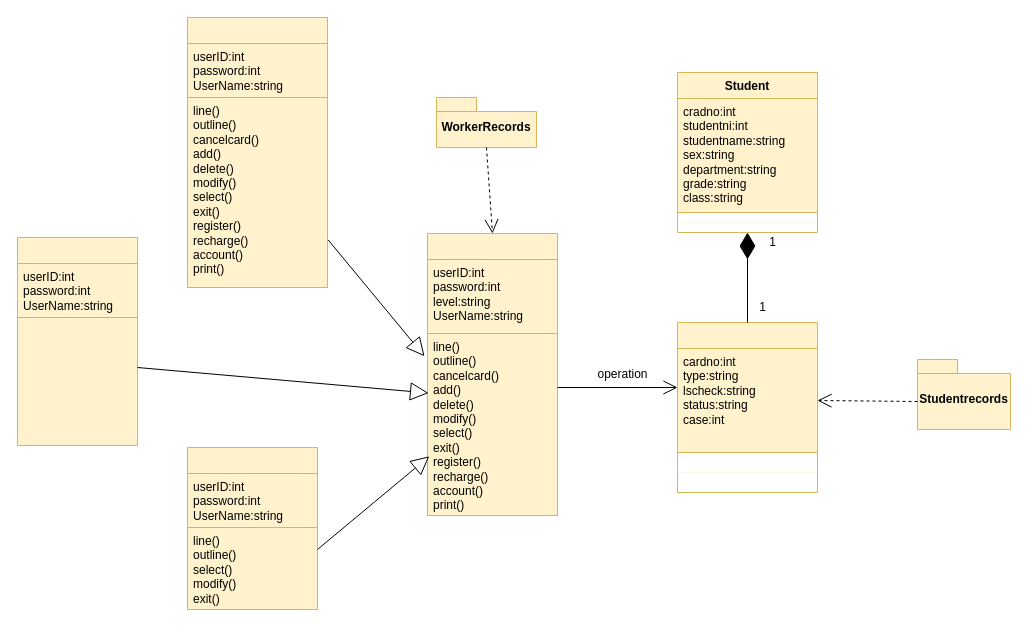
Some shapes in this 1028 by 630 pixel diagram are drawn without their labels. Here are the shapes that lost their labels. From the top down, the box of each, then its label:
(186, 16, 328, 288): Administrator
(16, 236, 138, 446): Operator
(16, 316, 138, 446): line() outline() register() recharge() cancelcard() modify() select()
(426, 232, 558, 516): Worker
(676, 322, 818, 492): StudentCard
(186, 446, 318, 610): GeneralUser
